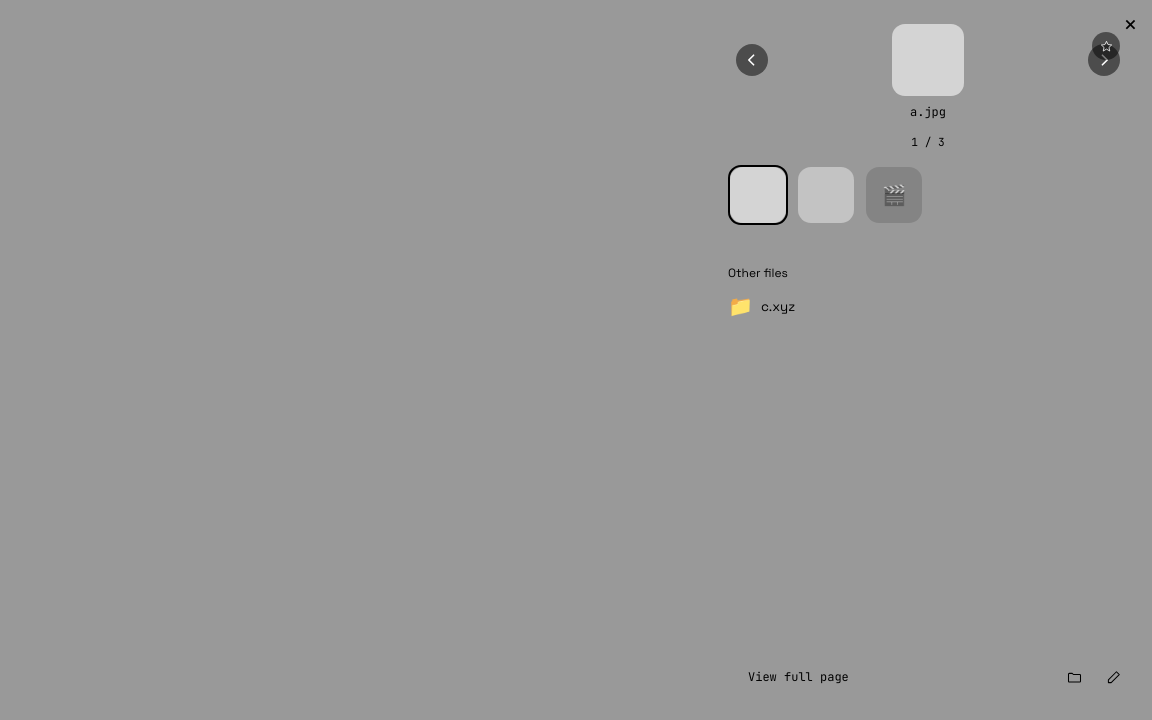
Test: CarouselDialog › jumps straight to a video when its thumbnail is clicked
This screenshot has width=1152, height=720.
Click the button named "d.mp4" at (894,195), box x1=864 y1=165 x2=924 y2=225
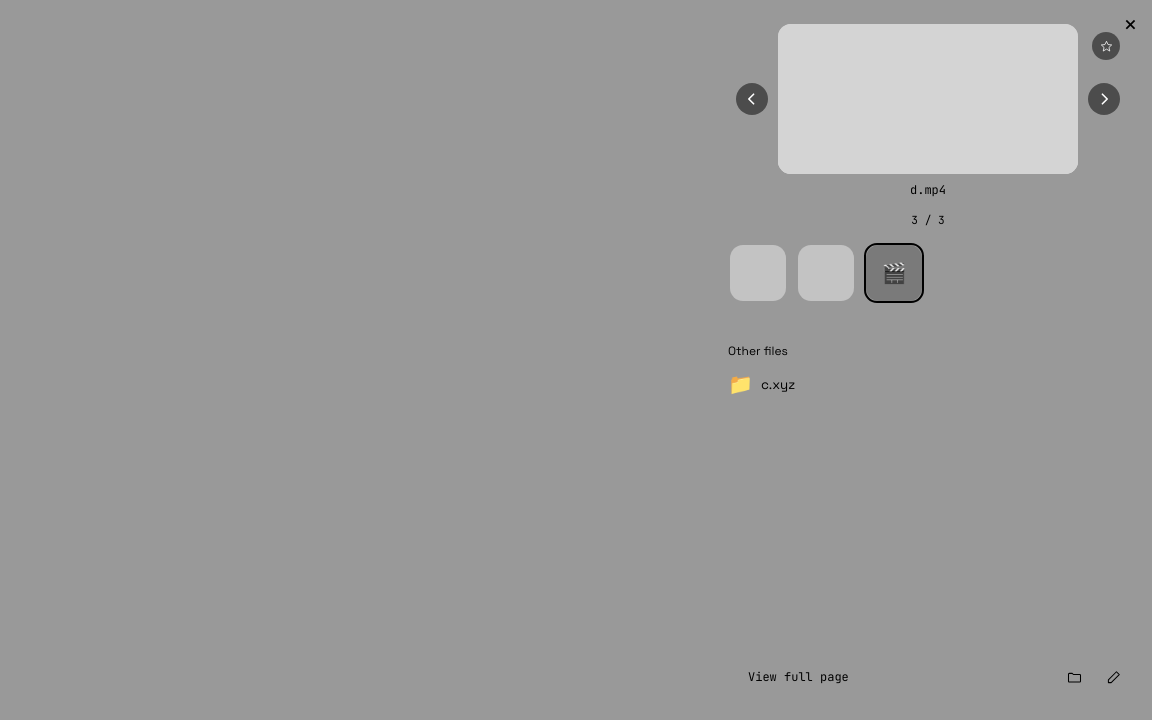
Expected: the picture with test id "carousel-main-image" is gone
